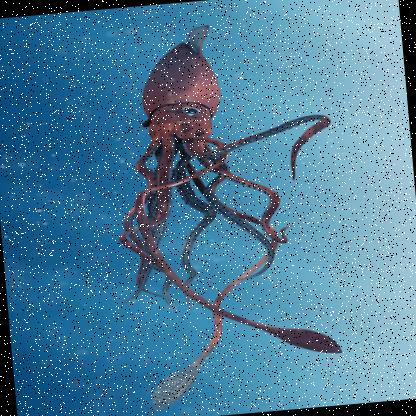colossal_squid: (45, 1, 389, 415)
